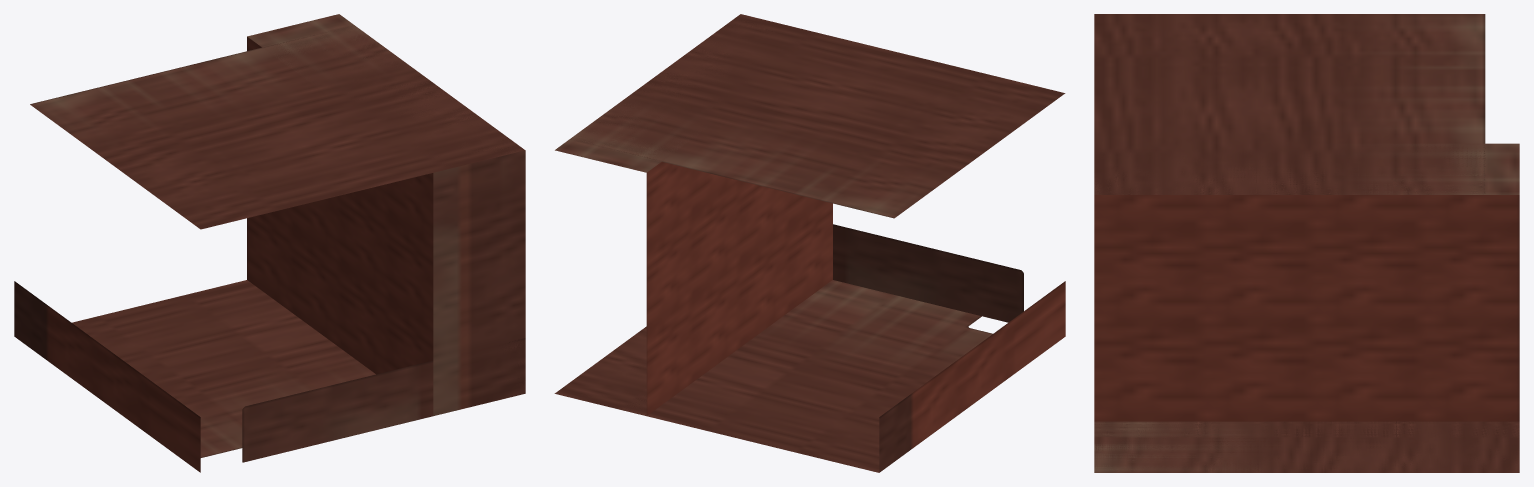
File: section-6.obj
3 views of the same model, side by side, from view 1: azimuth 30°, elevation 25°; view 2: azimuth 150°, elevation 25°; view 3: azimuth 270°, elevation 25° (orthographic). The views are drawn at different scales.
Size of the model in its own units: 0.9735 by 0.6972 by 0.967.
